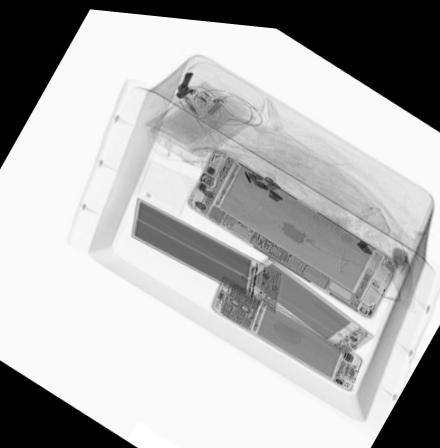Powerbank: (133, 195, 280, 307), (239, 255, 374, 343)
